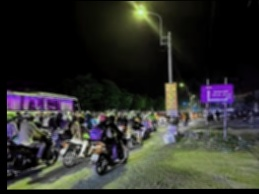Bien-so: (83, 158, 93, 166), (52, 156, 60, 162)
